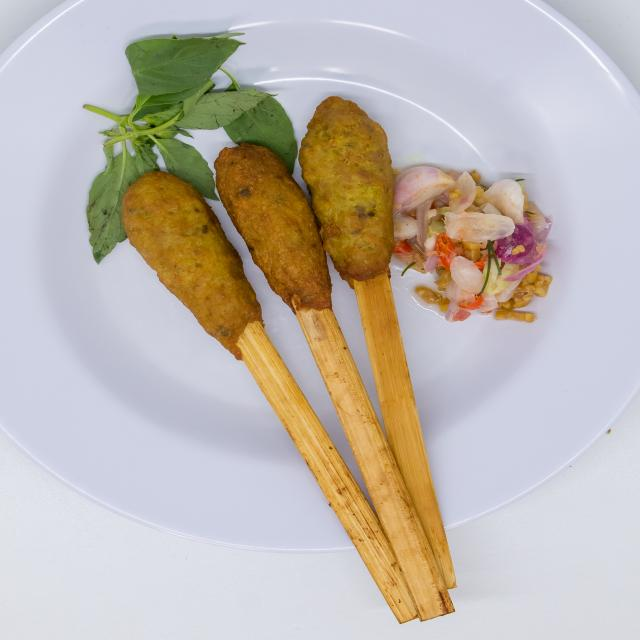Sate-Lilit: (106, 67, 477, 629)
